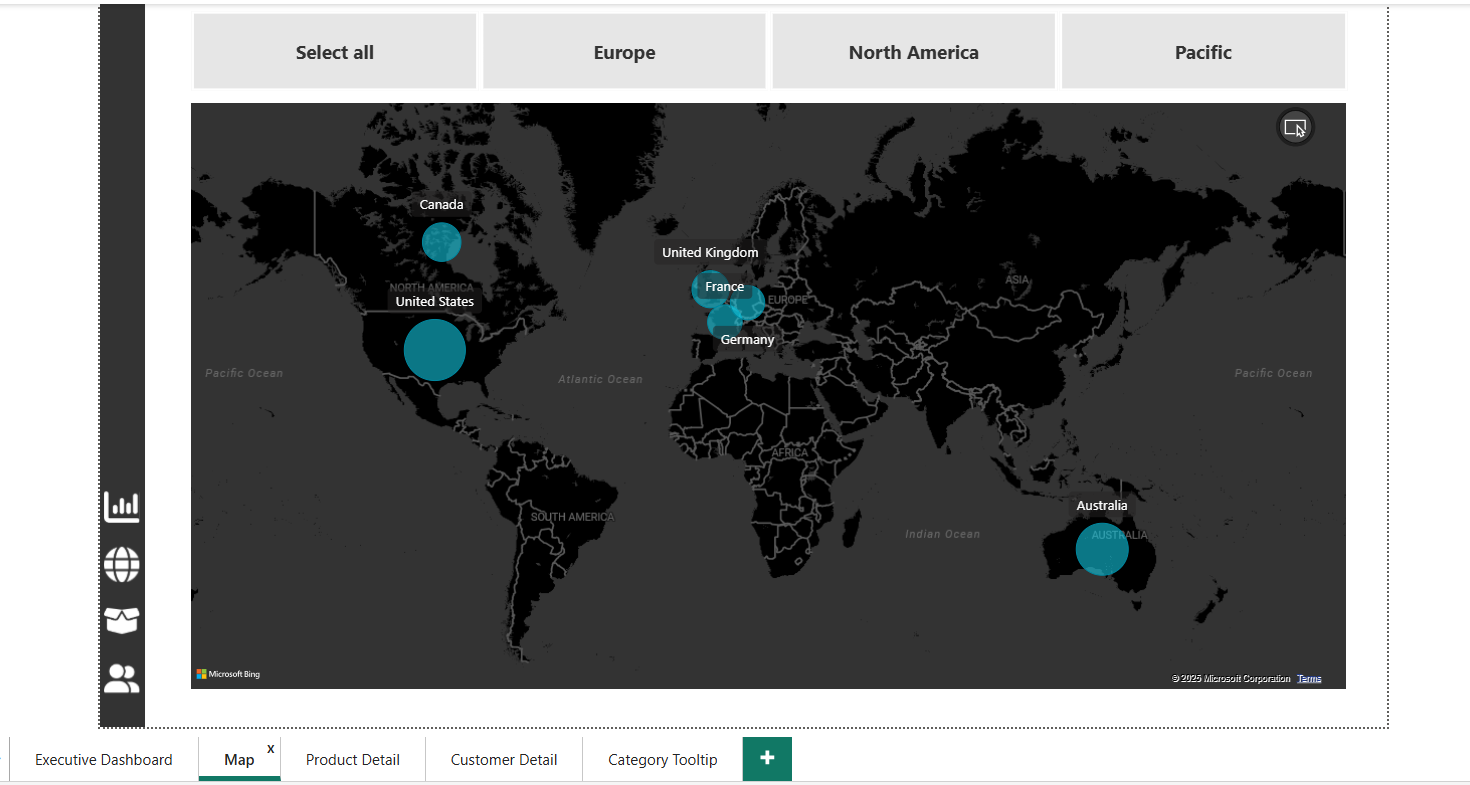

This screenshot's page, from the dashboard's own definition file:
{"tool":"powerbi","page":{"name":"Map","canvas":[1280,720],"ordinal":1},"visuals":[{"type":"shape","box":[0,0,45,720],"z":0},{"type":"actionButton","box":[0,592.5,44.8,43.5],"z":0,"group":"g1"},{"type":"map","fields":{"Category":["Territory Lookup.Country"],"Size":["Measure Table.Total Orders"]},"box":[85.8,93.3,1159.4,593.4],"z":1000},{"type":"actionButton","box":[0,649.3,44.8,43.5],"z":1000,"group":"g1"},{"type":"actionButton","box":[0,478.9,44.8,43.5],"z":2000,"group":"g1"},{"type":"slicer","fields":{"Values":["Territory Lookup.Continent"]},"box":[64.7,0,1200.4,93.3],"z":2000},{"type":"actionButton","box":[0,535.7,44.8,43.5],"z":3000,"group":"g1"},{"type":"group","id":"g1","title":"Navigation Buttons","box":[0,478.9,44.8,214],"z":3000}]}

Visuals, with their boxes on the page's 1280x720 design canvas (x1, y1, x2, y2). These are canvas units, not pixel positions in the 1470x785 screenshot, which may show the page scaled, cropped or inside an application window:
shape: [0, 0, 45, 720]
actionButton: [0, 592, 45, 636]
map - Territory Lookup.Country x Measure Table.Total Orders: [86, 93, 1245, 687]
actionButton: [0, 649, 45, 693]
actionButton: [0, 479, 45, 522]
slicer - Territory Lookup.Continent: [65, 0, 1265, 93]
actionButton: [0, 536, 45, 579]
"Navigation Buttons" group: [0, 479, 45, 693]
